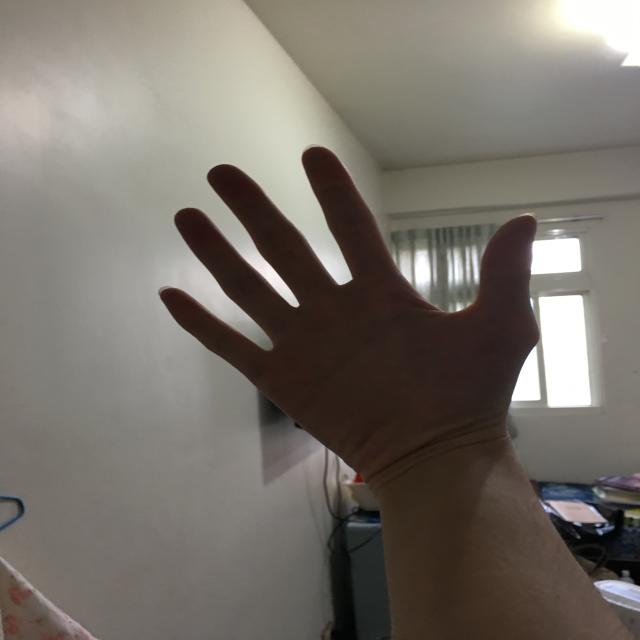hand: (153, 142, 553, 510)
